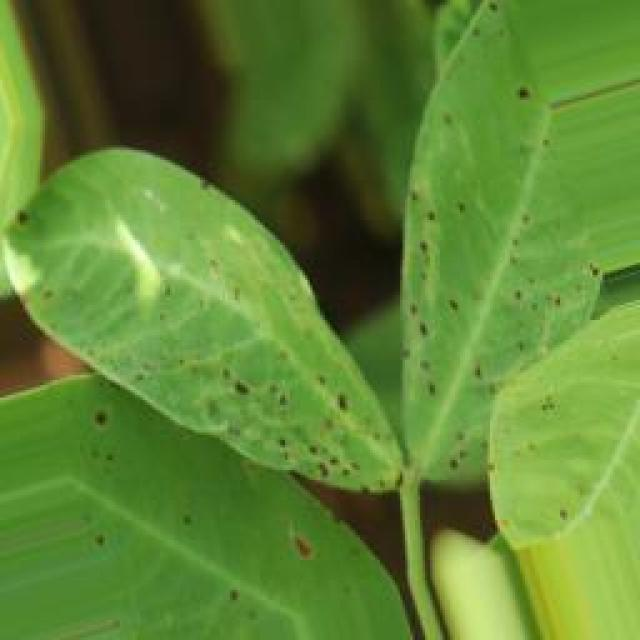Sigatoka: (192, 356, 381, 498), (384, 185, 470, 420), (475, 219, 608, 344), (189, 214, 306, 350), (268, 516, 335, 588), (468, 331, 529, 407), (449, 418, 497, 492), (466, 0, 520, 56), (69, 528, 141, 566), (413, 99, 473, 142), (507, 80, 551, 131), (0, 197, 42, 241), (543, 468, 588, 506), (64, 394, 116, 426), (212, 576, 254, 614), (537, 390, 570, 430), (177, 504, 204, 538)
